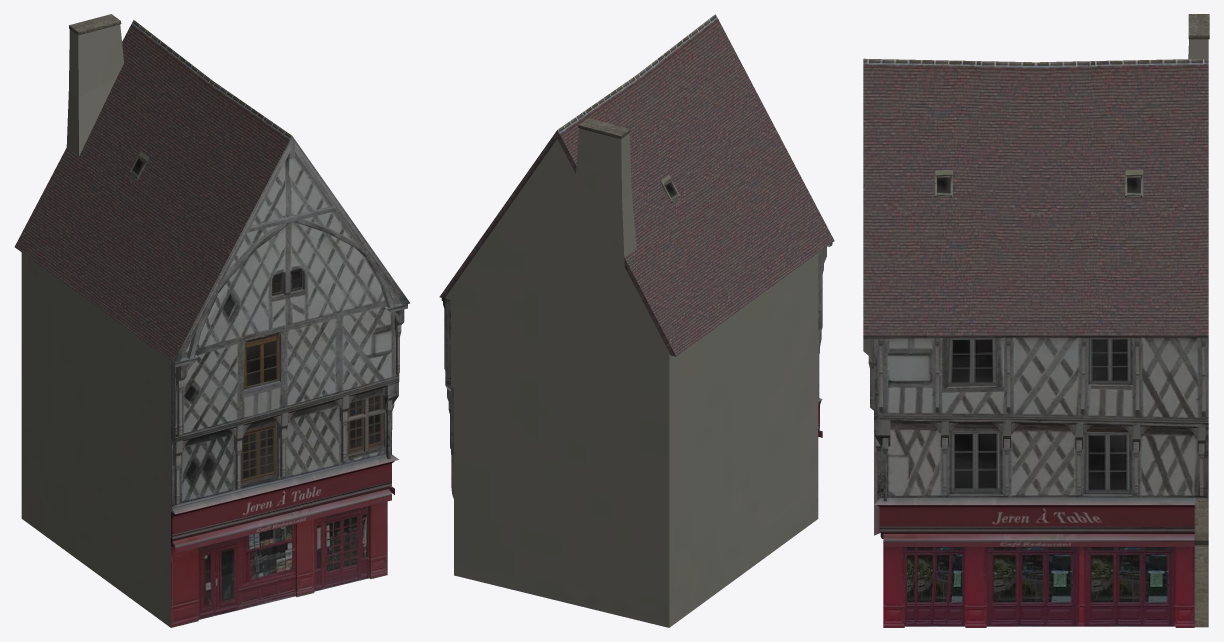
File: shop-b.glb
The picture shows the model from 3 angles, left to right: view 1: azimuth 30°, elevation 25°; view 2: azimuth 150°, elevation 25°; view 3: azimuth 270°, elevation 25°; orthographic projection. The views are drawn at different scales.
Visible parts, largest first — view 1: corner_corner_0; view 2: corner_corner_0; view 3: corner_corner_0.
Boxes of the visible parts, left/top/right/bottom form: corner_corner_0: left=14, top=14, right=409, bottom=627; corner_corner_0: left=439, top=14, right=834, bottom=627; corner_corner_0: left=863, top=14, right=1209, bottom=627.
Size of the model in its own units: 8.48 by 16.45 by 9.84.
Materials: 1 (1 with a texture image).
